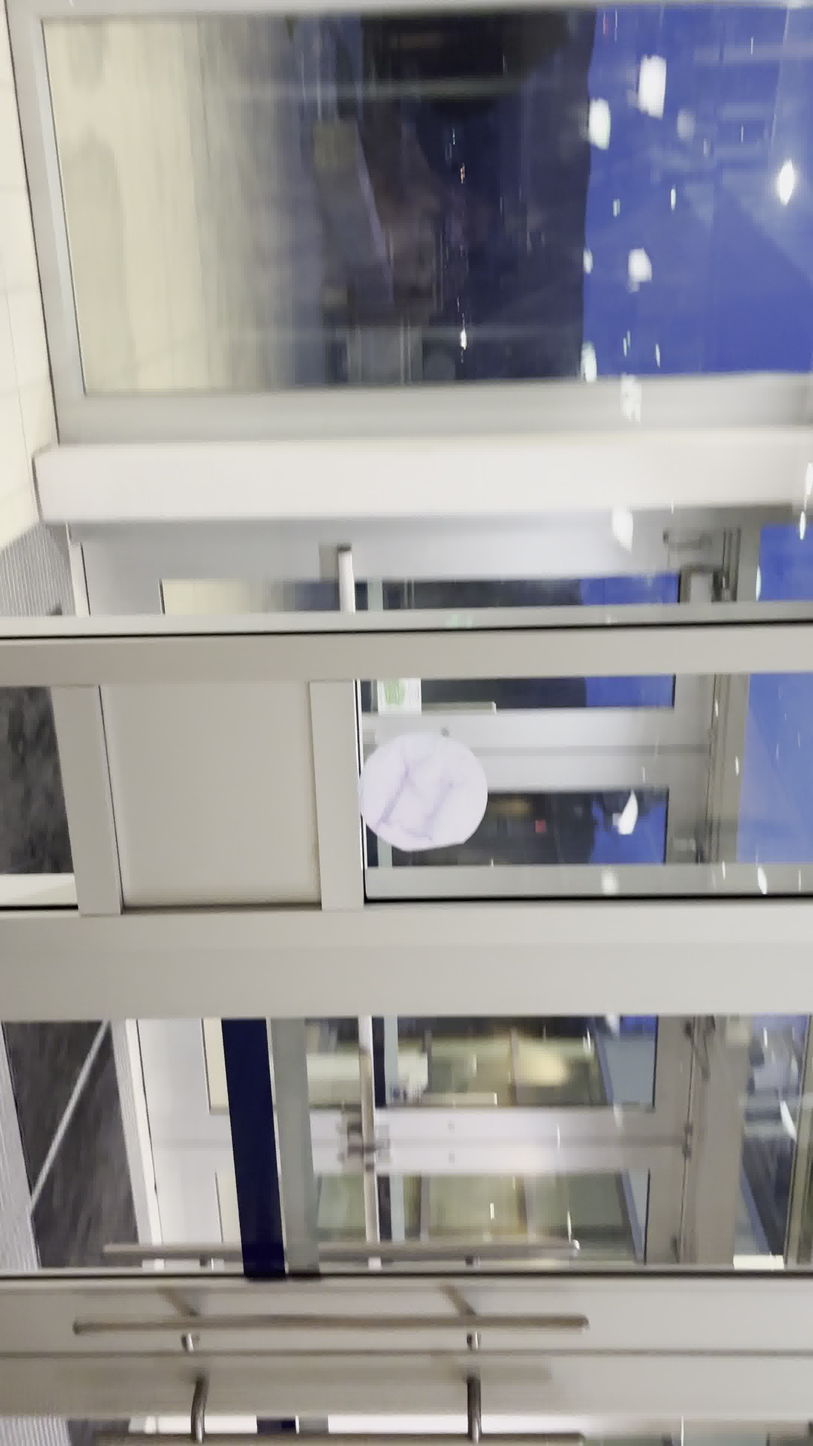Target: (355, 729, 490, 853)
